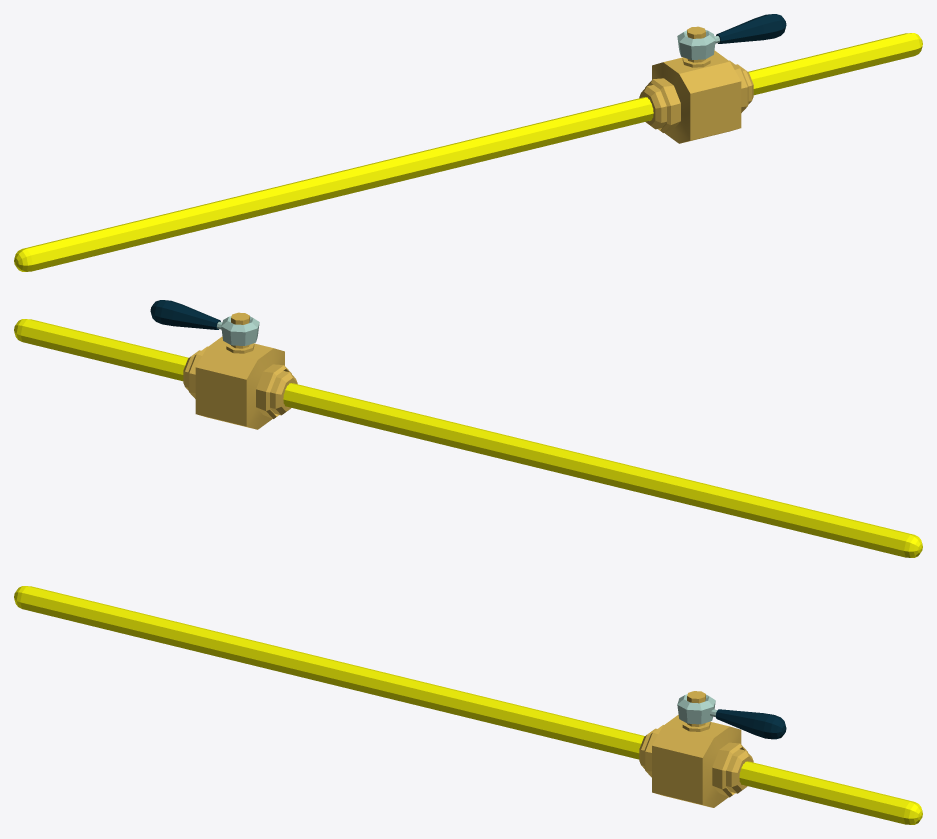
The model's file is pipe_edge_w_valve_a.glb.
3 views of the same model, one above another, from view 1: azimuth 30°, elevation 25°; view 2: azimuth 150°, elevation 25°; view 3: azimuth 330°, elevation 25° (orthographic).
Parts seen in each view (by area): view 1: valve_a2; view 2: valve_a2; view 3: valve_a2.
Boxes of the visible parts, x1,y1,x2,y2 form: valve_a2: (14,14,922,271); valve_a2: (14,300,922,557); valve_a2: (14,586,922,824).
Bounding box in the file's own units: 4.12 × 0.4399 × 0.3043.
